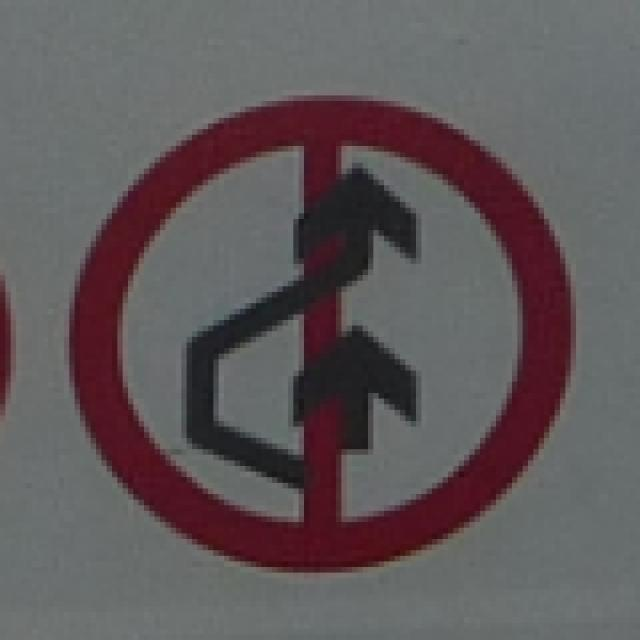Not that Direction: (38, 94, 585, 568)
